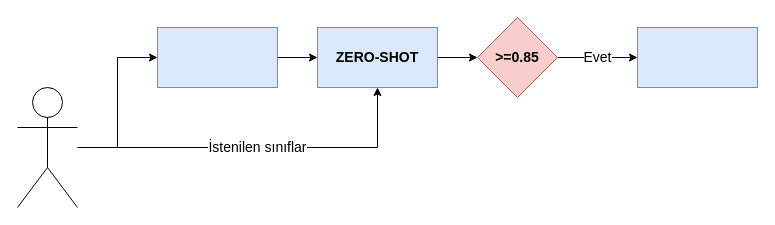
Image size: 775x225. Some labels were removed from this diagram. The centre of each missing label's shape, as x and y in pixels:
"BERT" goes at [697,57].
"Etiketlenmemiş Veriseti" goes at [217,57].
